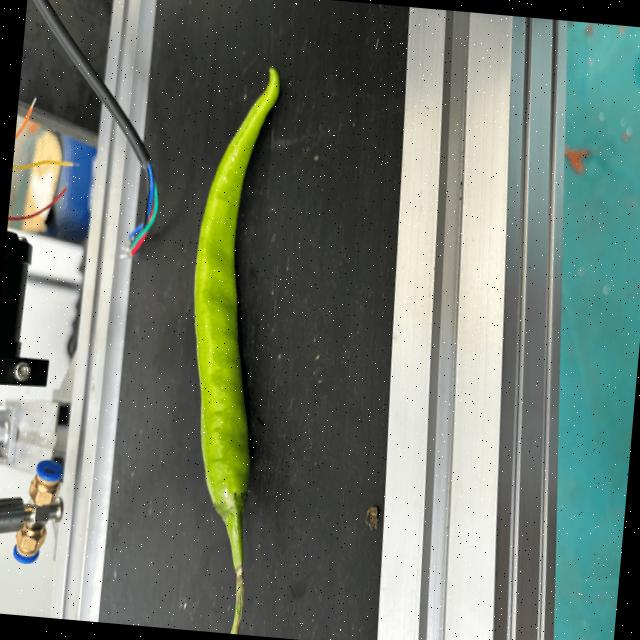chili: (192, 62, 280, 533)
